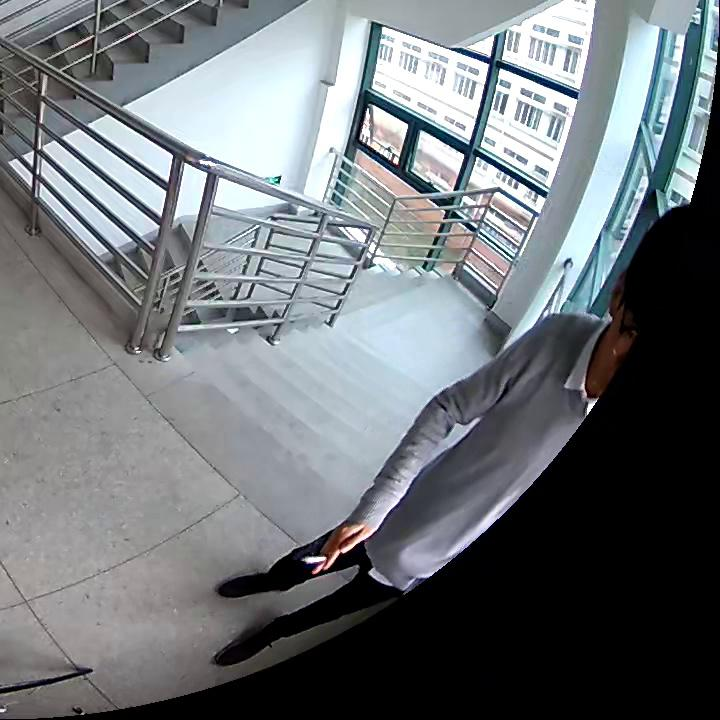handsmoke: (302, 521, 382, 574)
